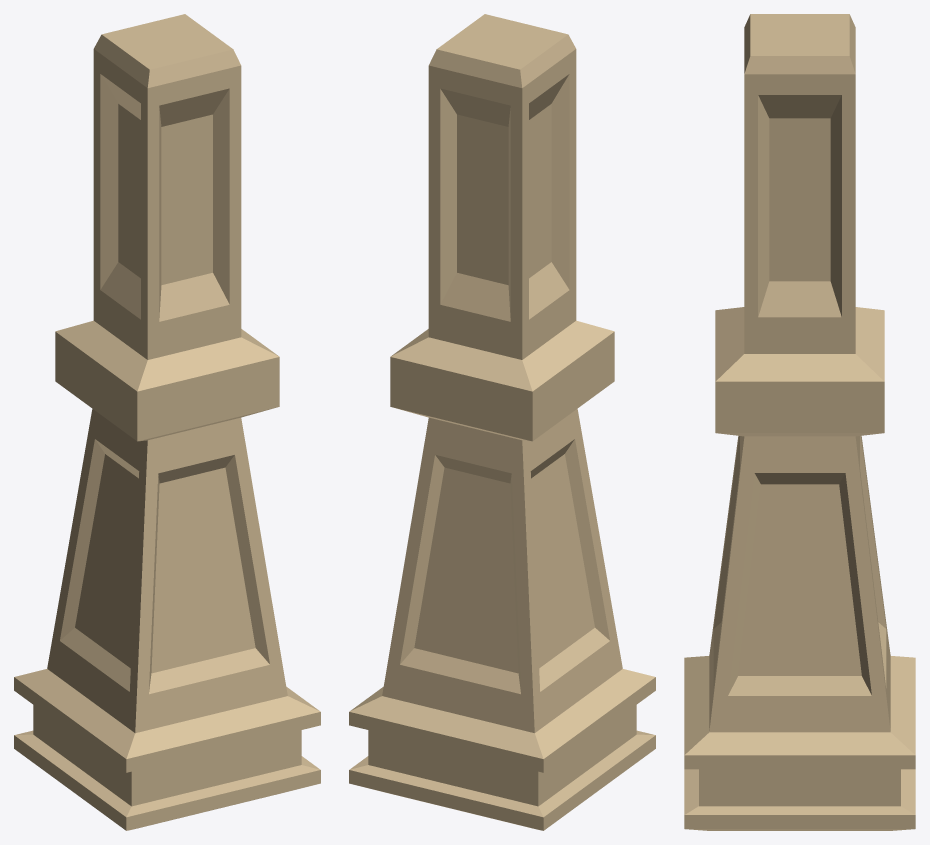
Rendered from SM_TemplePillar02_Gaeta.fbx.
3 renders of one model, left to right at view 1: azimuth 30°, elevation 25°; view 2: azimuth 150°, elevation 25°; view 3: azimuth 270°, elevation 25°, orthographic. The views are drawn at different scales.
Visible parts, largest first — view 1: Cube.043; view 2: Cube.043; view 3: Cube.043.
Boxes of the visible parts, left/top/right/bottom form: Cube.043: left=14, top=14, right=320, bottom=830; Cube.043: left=349, top=14, right=655, bottom=830; Cube.043: left=684, top=14, right=915, bottom=830.
Bounding box in the file's own units: 0.5133 × 1.86 × 0.5133.
